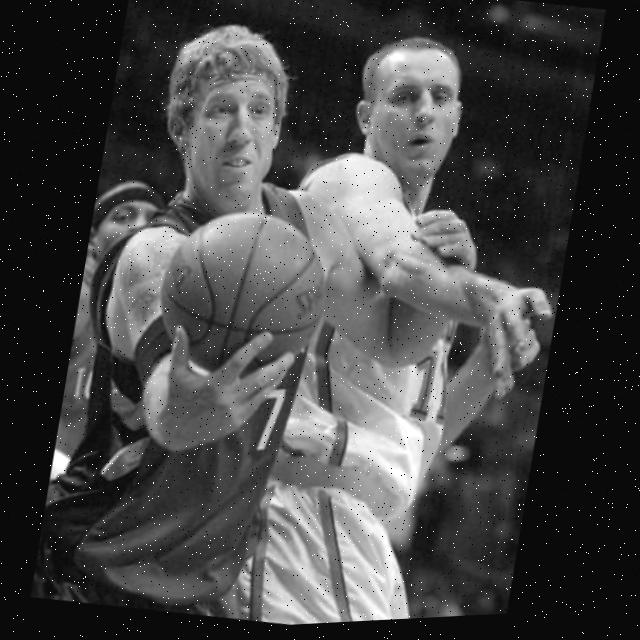face: (172, 52, 292, 207), (357, 52, 474, 188)
